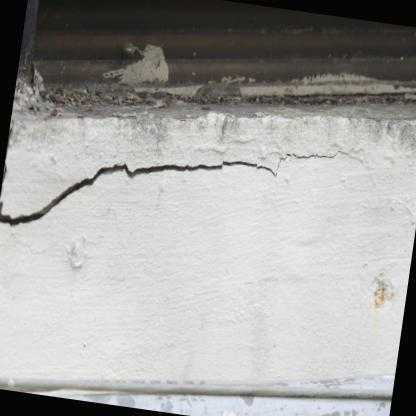crack: (0, 150, 341, 226)
